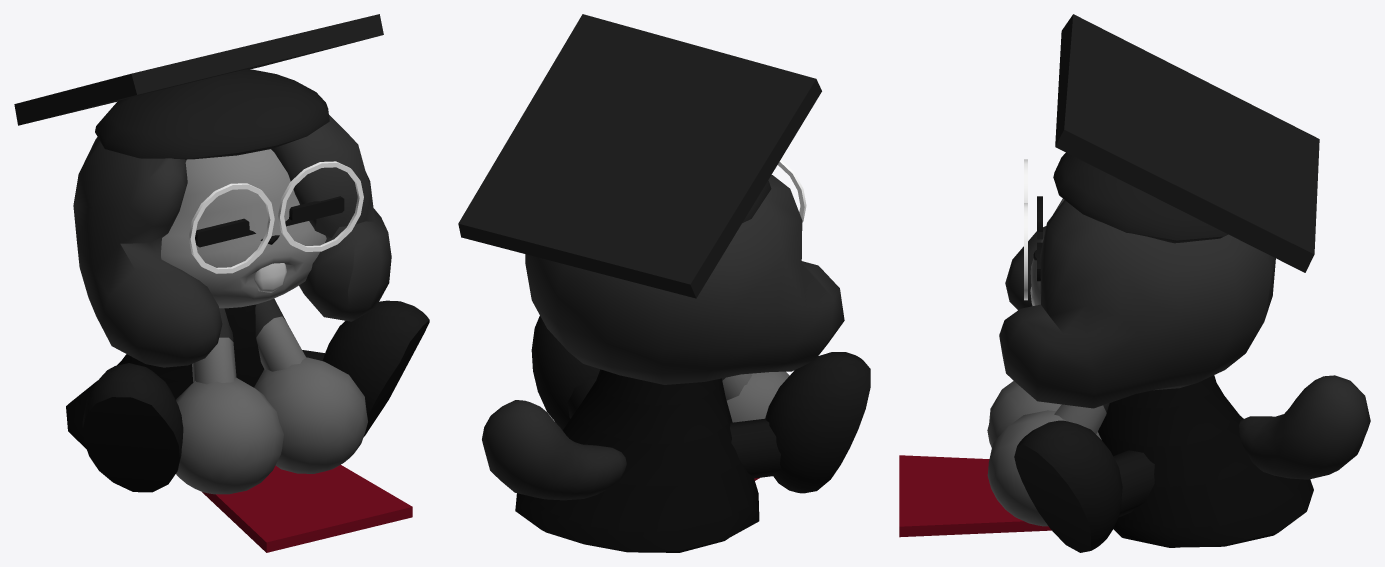
File: kat_smart.fbx
3 renders of one model, left to right at view 1: azimuth 30°, elevation 25°; view 2: azimuth 150°, elevation 25°; view 3: azimuth 270°, elevation 25°, orthographic. The views are drawn at different scales.
Parts seen in each view (by area): view 1: kat smart; view 2: kat smart; view 3: kat smart.
Part boxes in pixels (x1,y1,x2,y2): kat smart: (14,14,429,552); kat smart: (458,14,870,552); kat smart: (899,14,1370,552).
Bounding box in the file's own units: 77.58 × 93.45 × 94.39.
